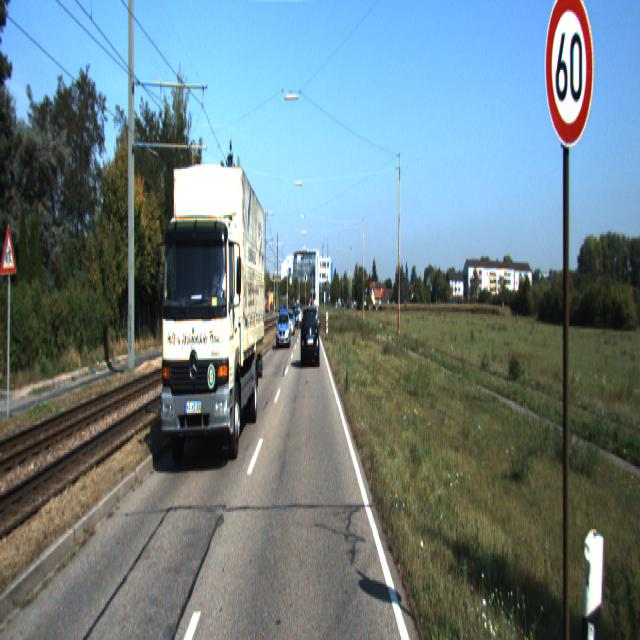Car: (160, 116, 268, 466), (301, 304, 320, 367), (276, 305, 291, 350), (174, 313, 192, 347)
